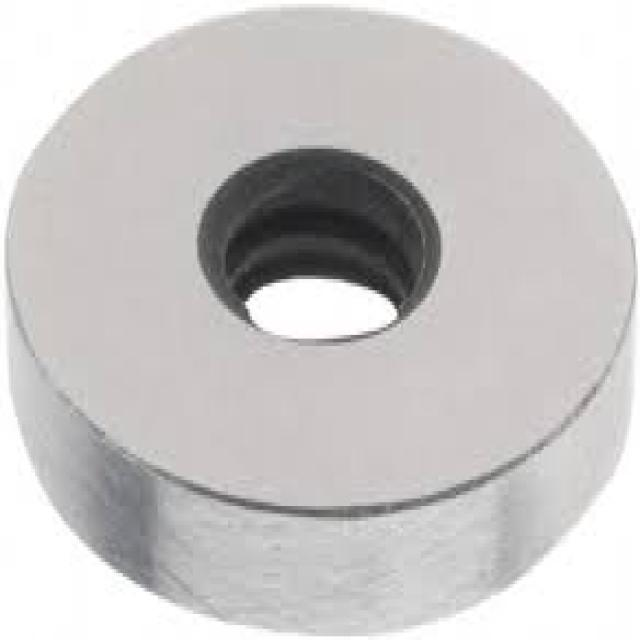Turning: (1, 1, 639, 634)
